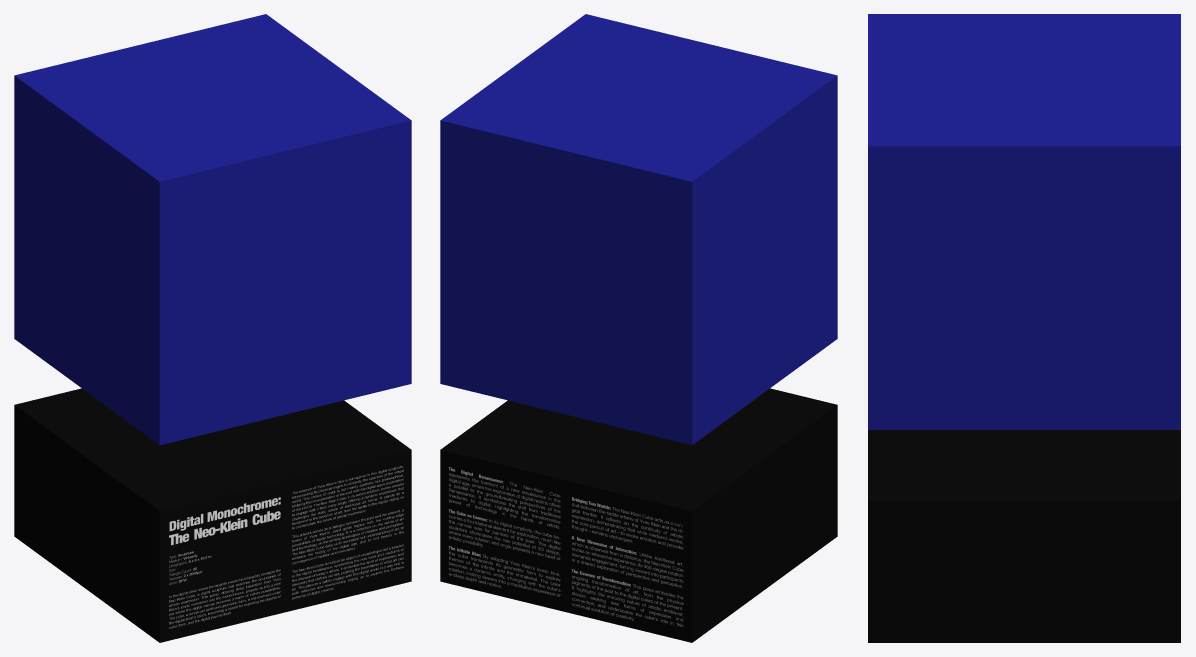
Rendered from NEOKLEIN-og-v121.glb.
3 renders of one model, left to right at view 1: azimuth 30°, elevation 25°; view 2: azimuth 150°, elevation 25°; view 3: azimuth 270°, elevation 25°, orthographic. The views are drawn at different scales.
Parts seen in each view (by area): view 1: yves klein blue monochrome-151d9c-; view 2: yves klein blue monochrome-151d9c-; view 3: yves klein blue monochrome-151d9c-.
Boxes of the visible parts, x1,y1,x2,y2 form: yves klein blue monochrome-151d9c-: [14, 14, 411, 642]; yves klein blue monochrome-151d9c-: [440, 14, 837, 642]; yves klein blue monochrome-151d9c-: [868, 14, 1180, 642].
Bounding box in the file's own units: 5.82 × 10.18 × 5.86.
Materials: 3 (3 with a texture image).
